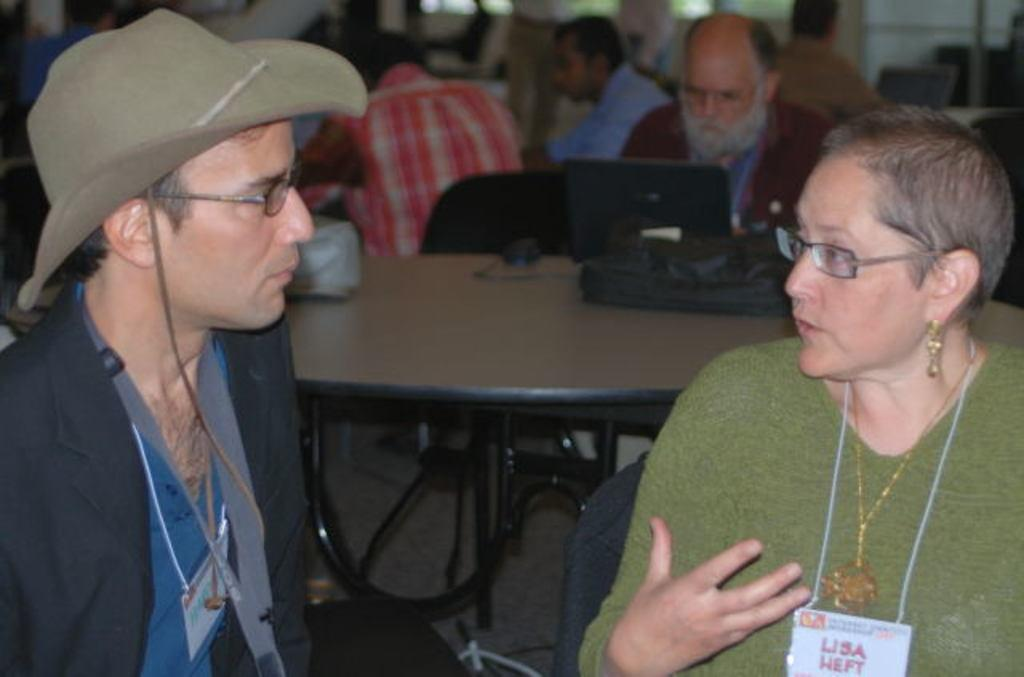Hat: (16, 9, 366, 606)
